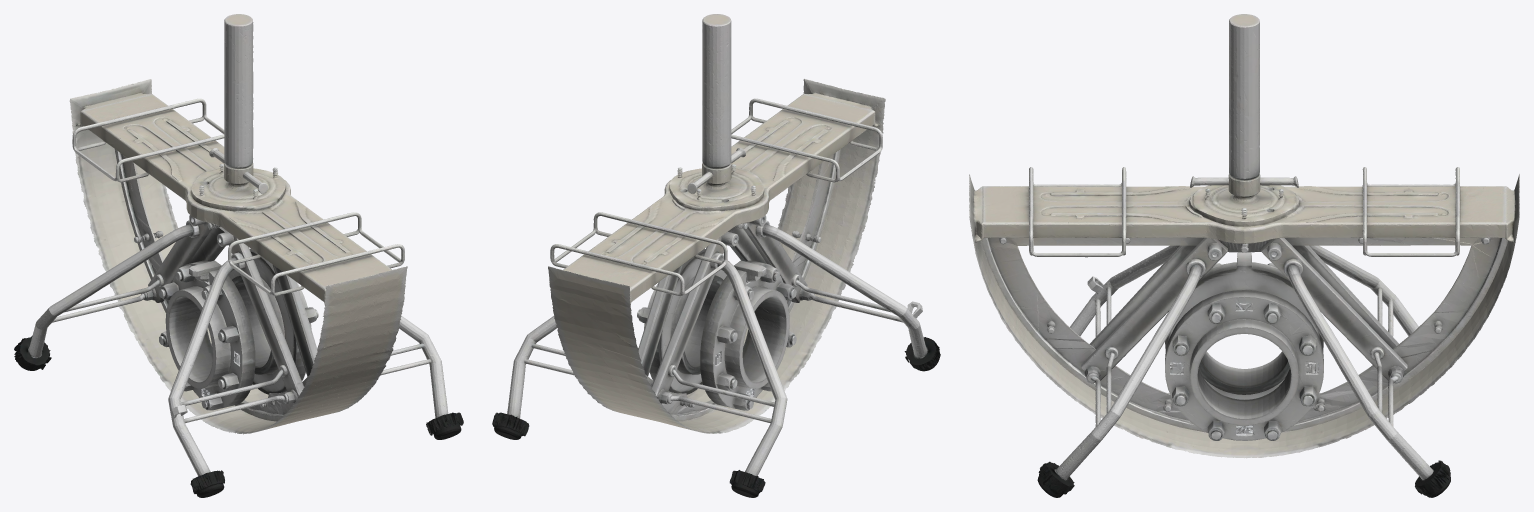
The model's file is surveying-instrument-3d-model.glb.
3 renders of one model, left to right at view 1: azimuth 30°, elevation 25°; view 2: azimuth 150°, elevation 25°; view 3: azimuth 270°, elevation 25°, orthographic. The views are drawn at different scales.
Visible parts, largest first — view 1: tripo_node_31fbb34b-fb29-44af-b351-bc16997bee8e; view 2: tripo_node_31fbb34b-fb29-44af-b351-bc16997bee8e; view 3: tripo_node_31fbb34b-fb29-44af-b351-bc16997bee8e.
Boxes of the visible parts, x1,y1,x2,y2 form: tripo_node_31fbb34b-fb29-44af-b351-bc16997bee8e: (14,14,463,497); tripo_node_31fbb34b-fb29-44af-b351-bc16997bee8e: (492,14,940,497); tripo_node_31fbb34b-fb29-44af-b351-bc16997bee8e: (969,14,1519,497).
Size of the model in its own units: 0.6063 by 0.8362 by 1.
Materials: 1 (1 with a texture image).
